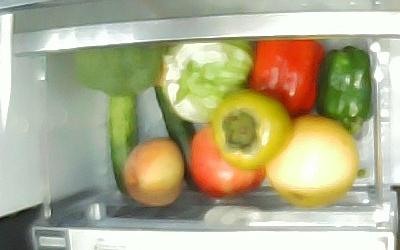apple: (190, 123, 266, 201)
broccoli: (71, 44, 164, 94)
cucumber: (153, 85, 204, 194), (109, 92, 138, 196)
grapefruit: (265, 115, 358, 208)
lettuce: (156, 40, 255, 123)
paprika: (248, 41, 324, 119), (317, 46, 371, 135)
peach: (122, 136, 185, 208)
persimmon: (211, 88, 293, 169)
